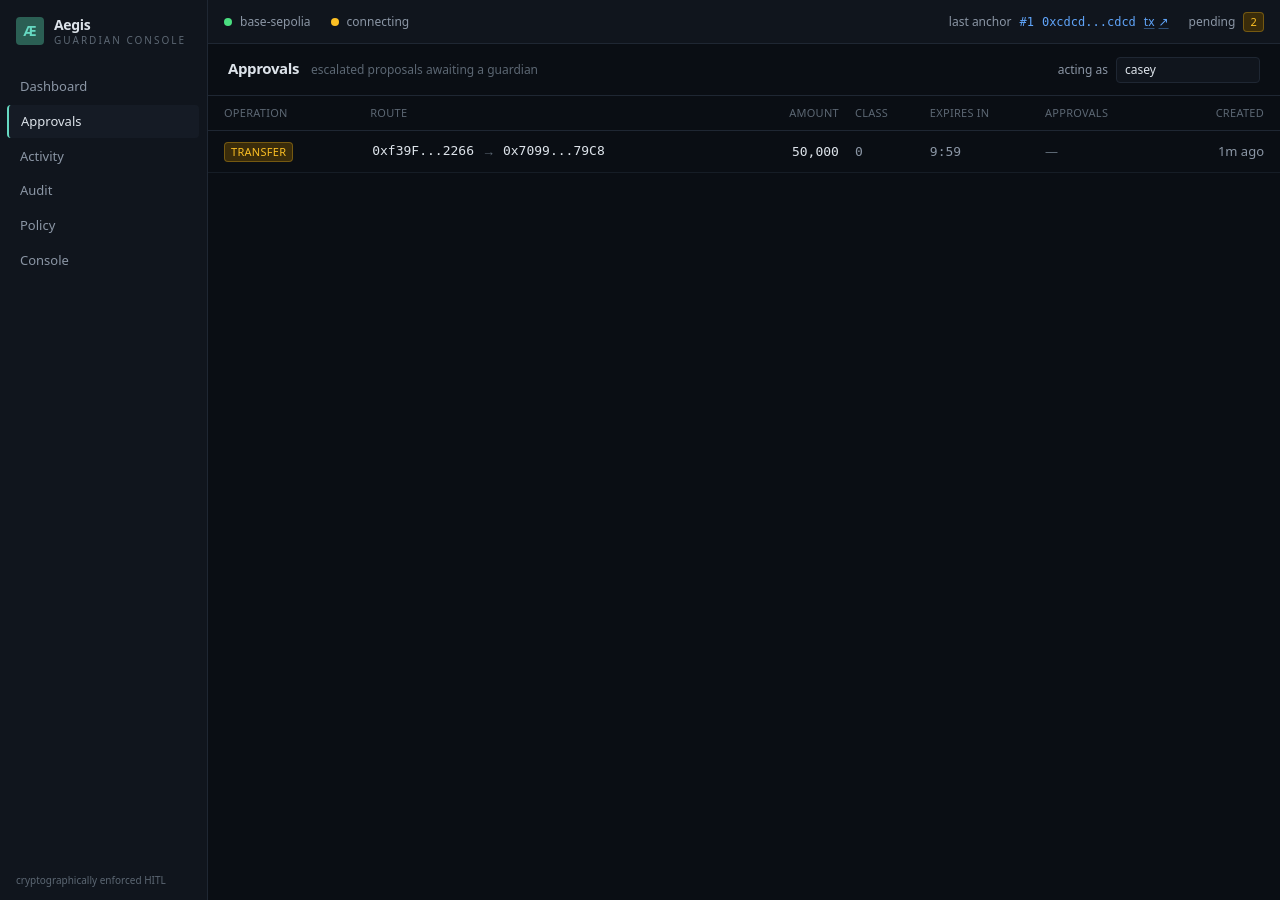
Scenario: ApprovalsPage › rejects with a comment
Click the row with test id "proposal-dec-1".
click(744, 152)  # box left=208, top=130, right=1279, bottom=173
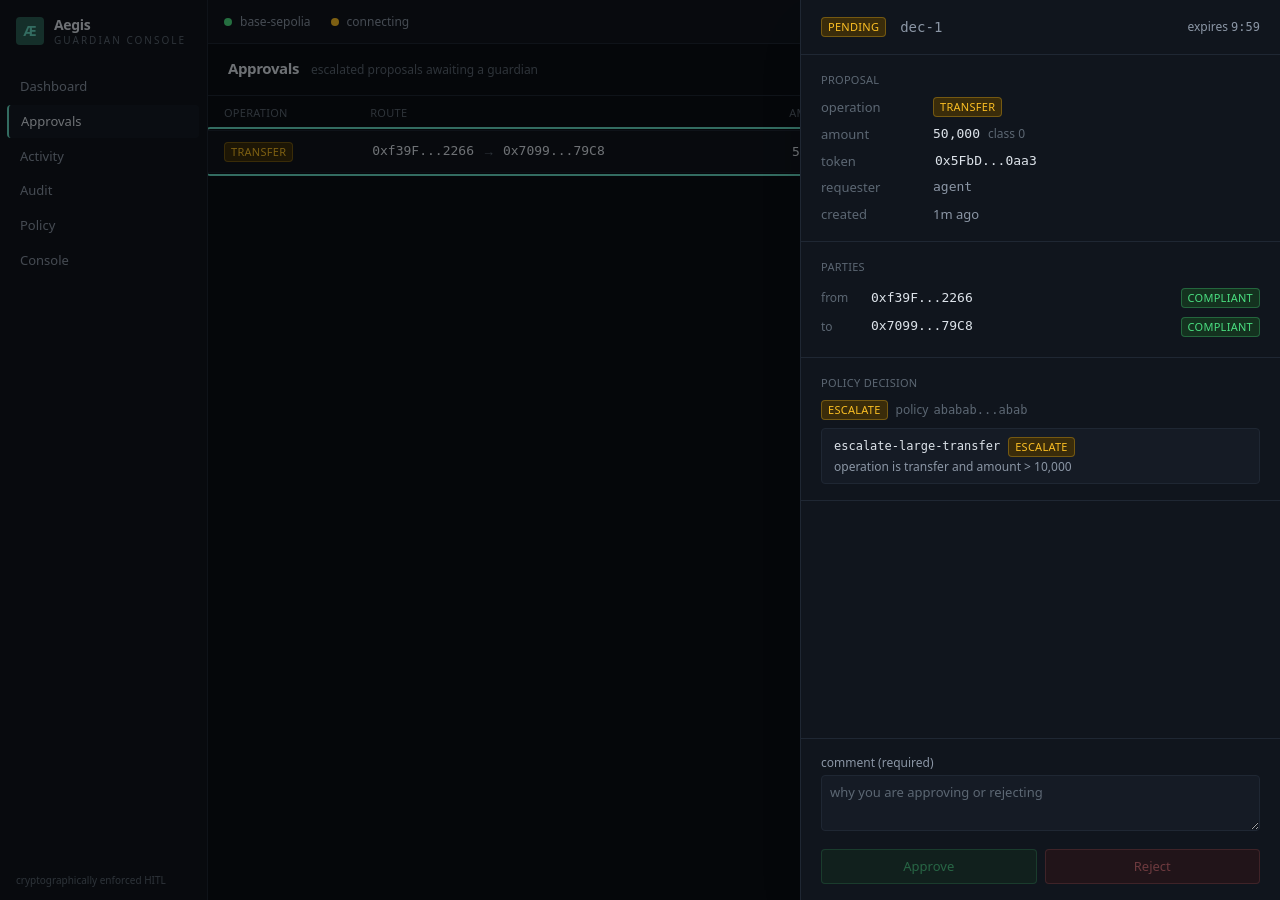
Type "wrong counterparty" into the text box labelled "comment (required)".
click(1040, 803); type("wrong counterparty")  # box left=821, top=775, right=1260, bottom=831
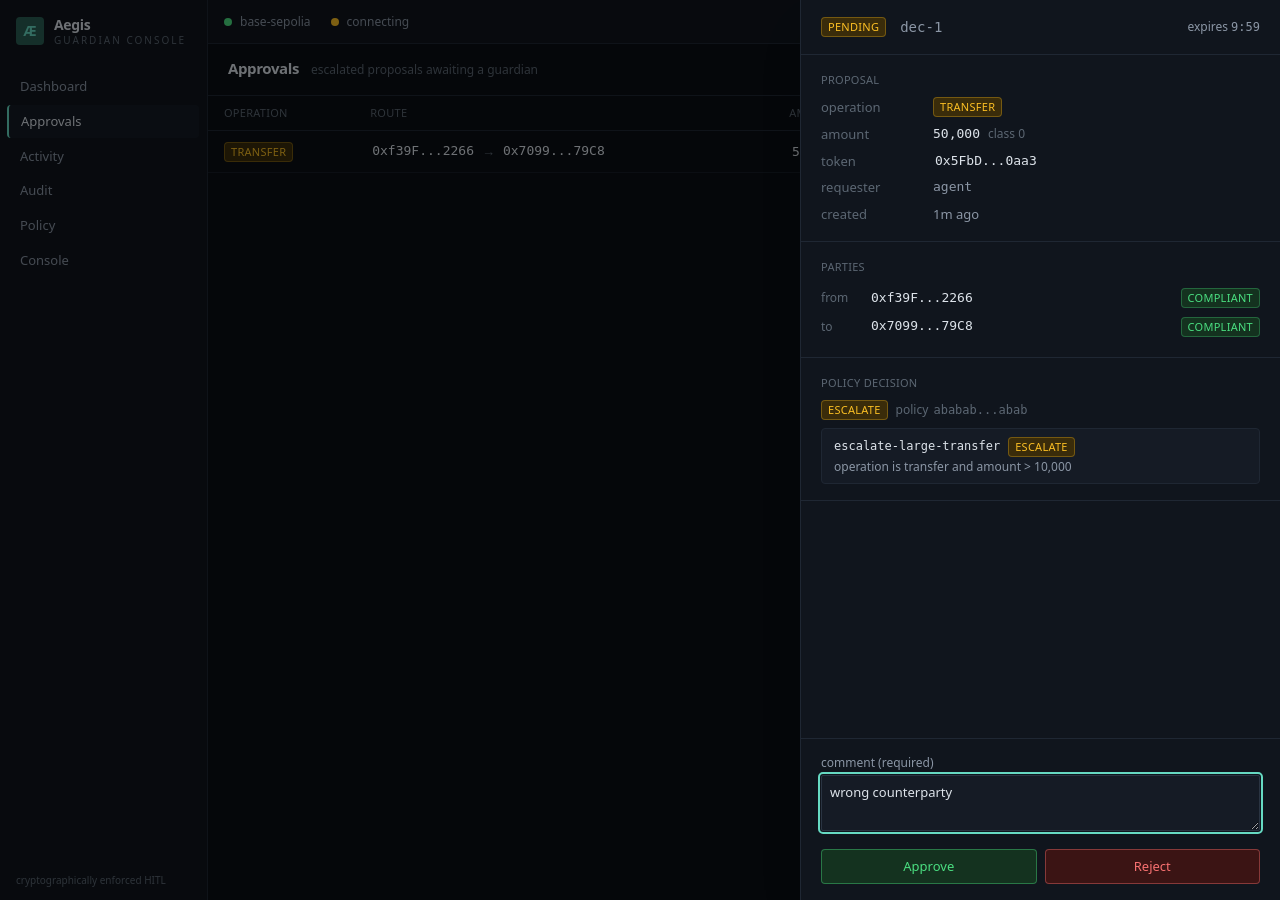
Click the button "Reject".
click(1152, 867)  # box left=1044, top=849, right=1260, bottom=884
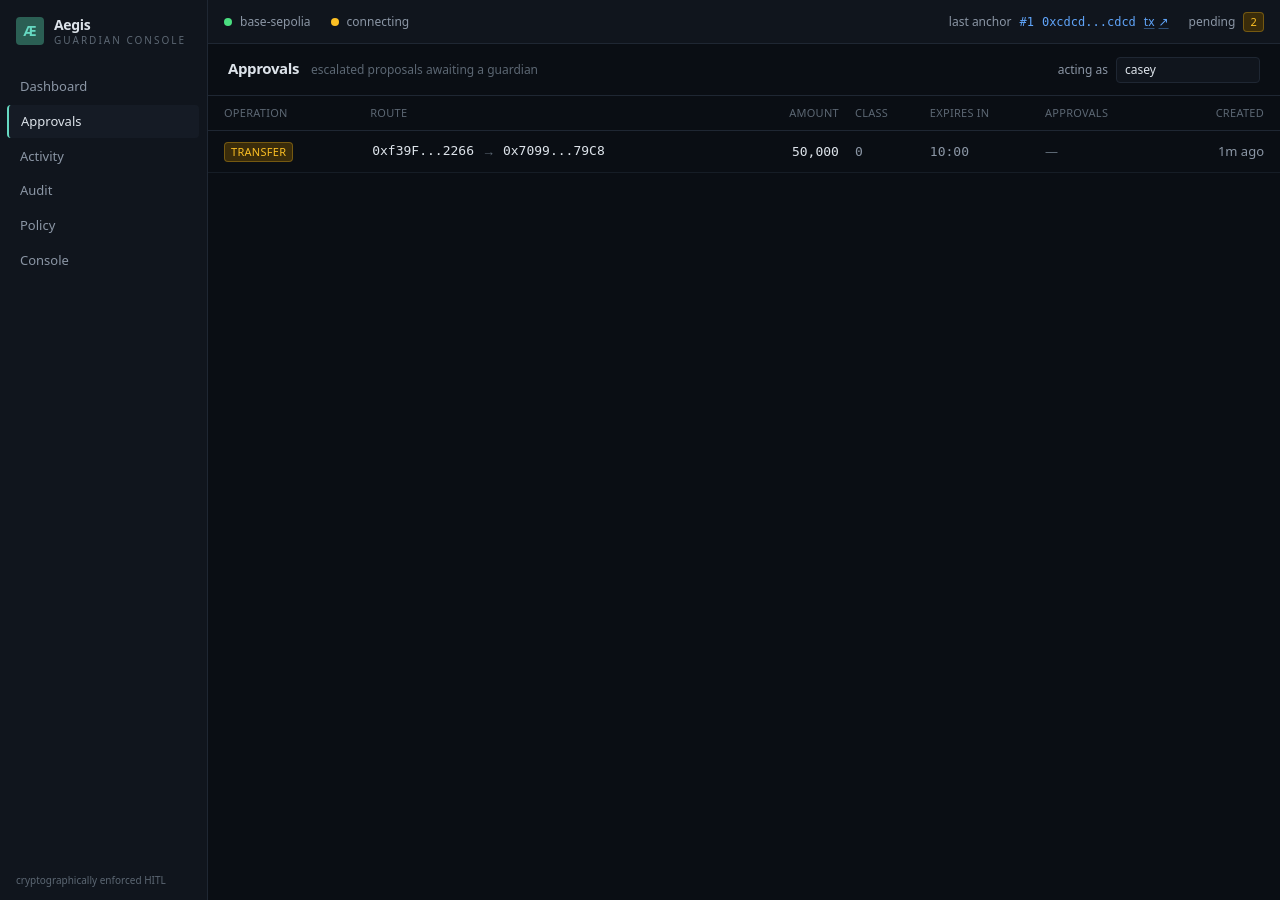
Expected: the dialog is gone
